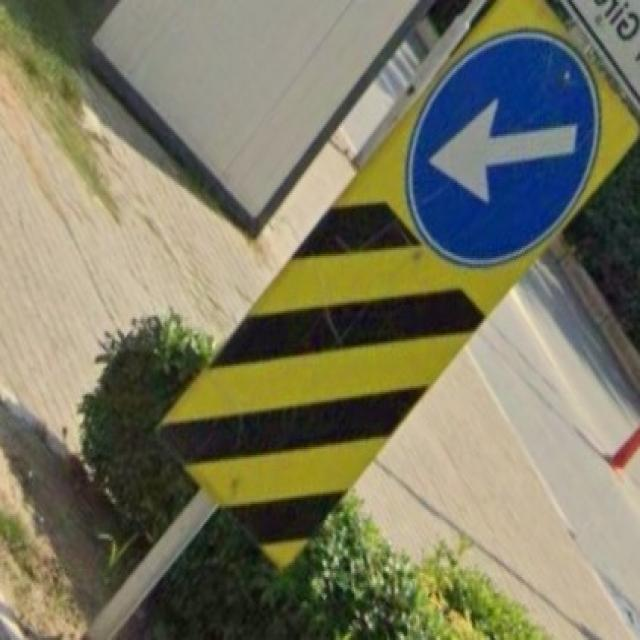Turn Left: (419, 51, 602, 262)
